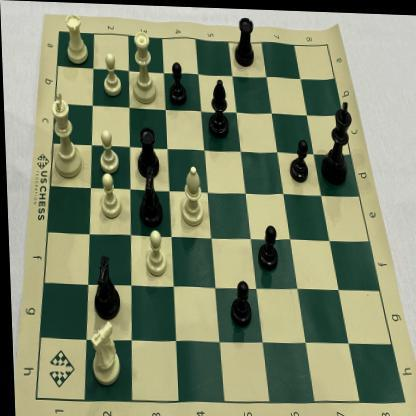black-bishop: (204, 73, 233, 144)
black-king: (314, 90, 356, 188)
black-knight: (89, 250, 121, 323), (132, 162, 164, 230)
black-pawn: (253, 218, 280, 274), (226, 275, 254, 329), (164, 57, 188, 107), (286, 134, 310, 182)
black-rook: (134, 123, 164, 185), (232, 13, 258, 72)
white-bishop: (174, 158, 206, 230)
white-king: (46, 83, 84, 184)
white-knight: (82, 316, 124, 390)
white-pawn: (138, 222, 168, 278), (95, 169, 124, 220), (92, 126, 119, 176), (100, 51, 124, 101)
white-queen: (130, 25, 160, 108)
white-rook: (60, 8, 90, 68)
